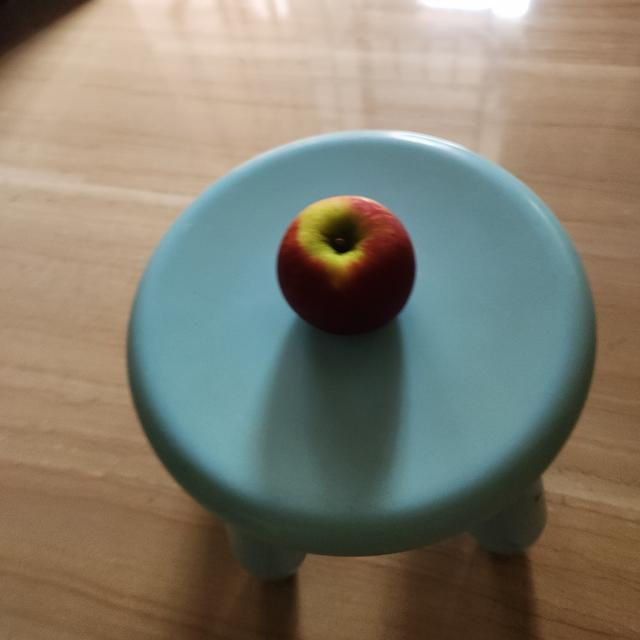apple: (274, 188, 419, 348)
